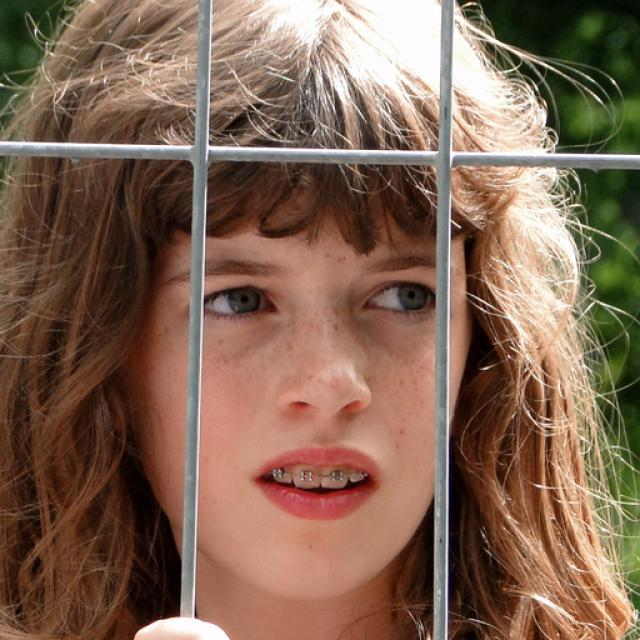disgust: (132, 141, 468, 603)
